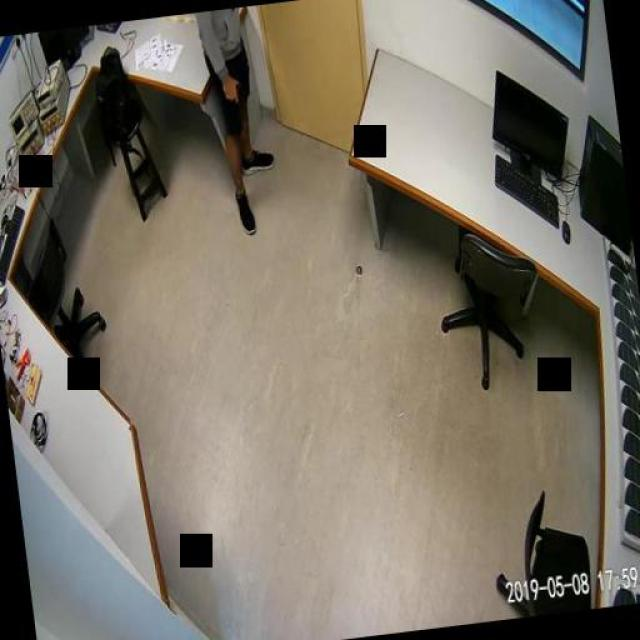gun: (220, 75, 248, 133)
